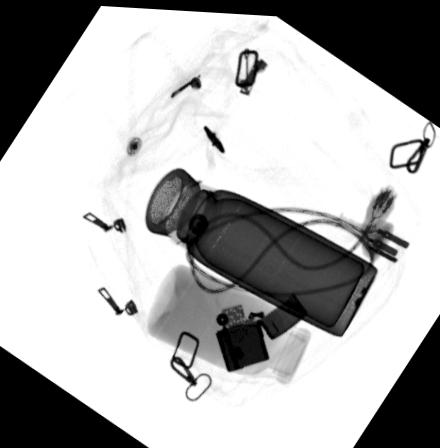Lighter: (213, 286, 309, 369)
